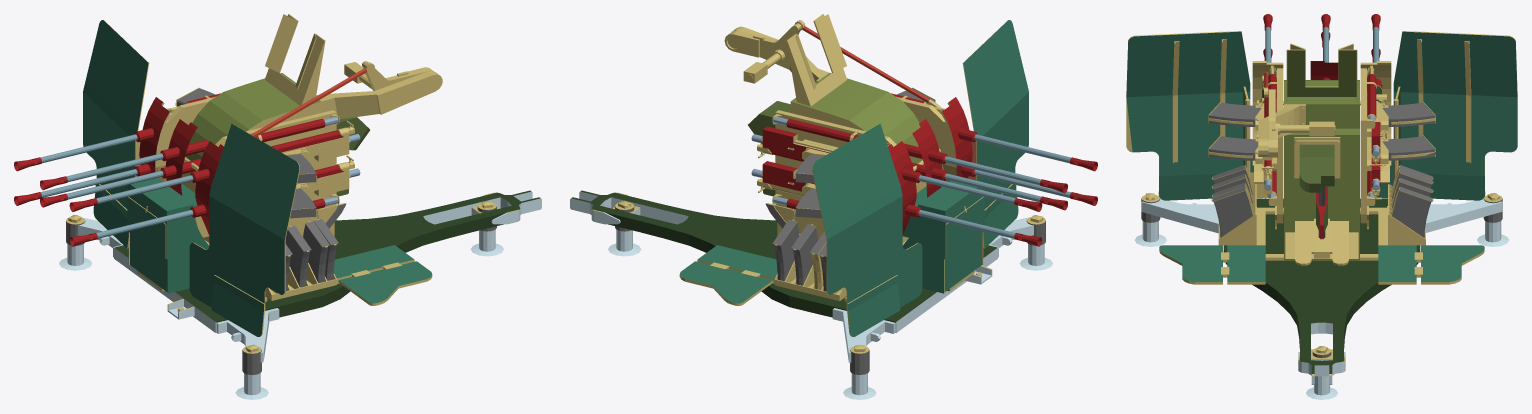
File: Flack38-.fbx
3 renders of one model, left to right at view 1: azimuth 30°, elevation 25°; view 2: azimuth 150°, elevation 25°; view 3: azimuth 270°, elevation 25°, orthographic. The views are drawn at different scales.
Visible parts, largest first — view 1: pasted__pasted__base, attack; view 2: pasted__pasted__base, attack; view 3: pasted__pasted__base, attack.
Part boxes in pixels (x1=…): pasted__pasted__base: x1=59, y1=14, x2=541, y2=399; attack: x1=14, y1=128, x2=209, y2=246; pasted__pasted__base: x1=570, y1=14, x2=1052, y2=399; attack: x1=902, y1=128, x2=1097, y2=246; pasted__pasted__base: x1=1126, y1=31, x2=1517, y2=399; attack: x1=1263, y1=14, x2=1381, y2=82.
Size of the model in its own units: 482 by 252 by 342.
